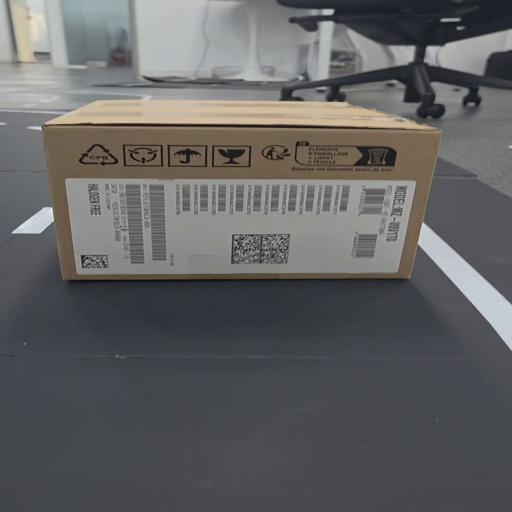Box: (38, 85, 461, 298)
